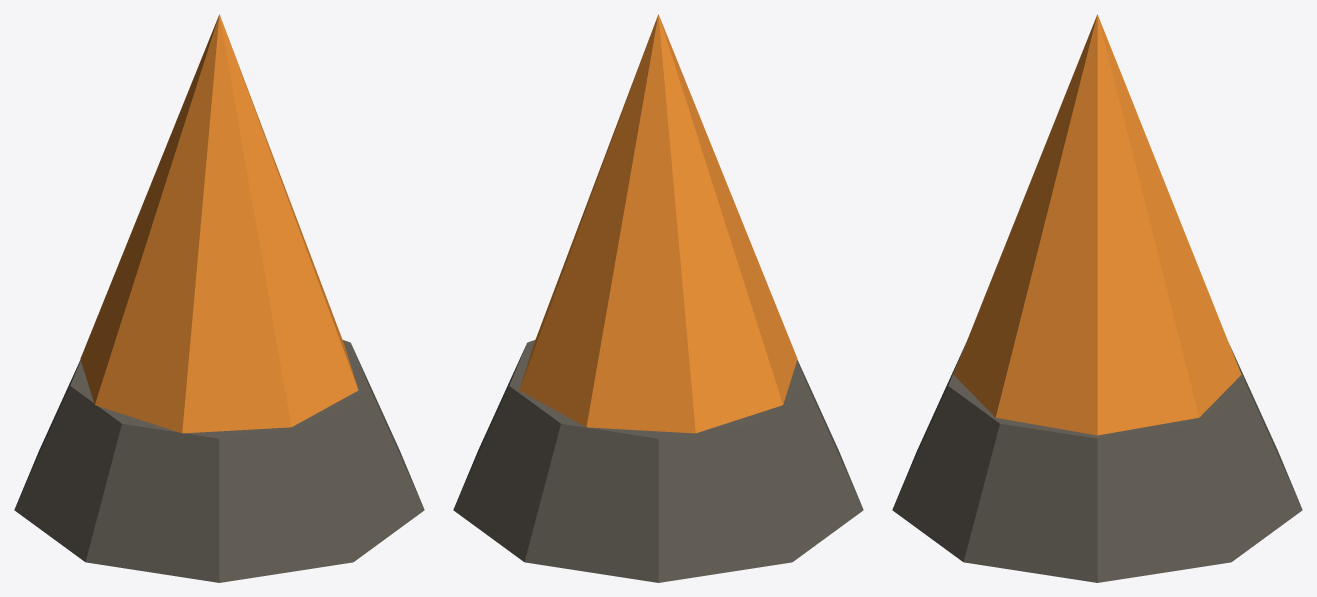
The model's file is bonfire.obj.
3 renders of one model, left to right at view 1: azimuth 30°, elevation 25°; view 2: azimuth 150°, elevation 25°; view 3: azimuth 270°, elevation 25°, orthographic.
Visible parts, largest first — view 1: bonfire_flame, bonfire_stack; view 2: bonfire_flame, bonfire_stack; view 3: bonfire_flame, bonfire_stack.
Boxes of the visible parts, box(x1,y1,x2,y2) form: bonfire_flame: box(80, 14, 358, 433); bonfire_stack: box(14, 340, 424, 582); bonfire_flame: box(519, 14, 797, 433); bonfire_stack: box(453, 340, 863, 582); bonfire_flame: box(953, 14, 1241, 435); bonfire_stack: box(892, 346, 1302, 582).
Size of the model in its own units: 1.07 by 1.4 by 1.08.
